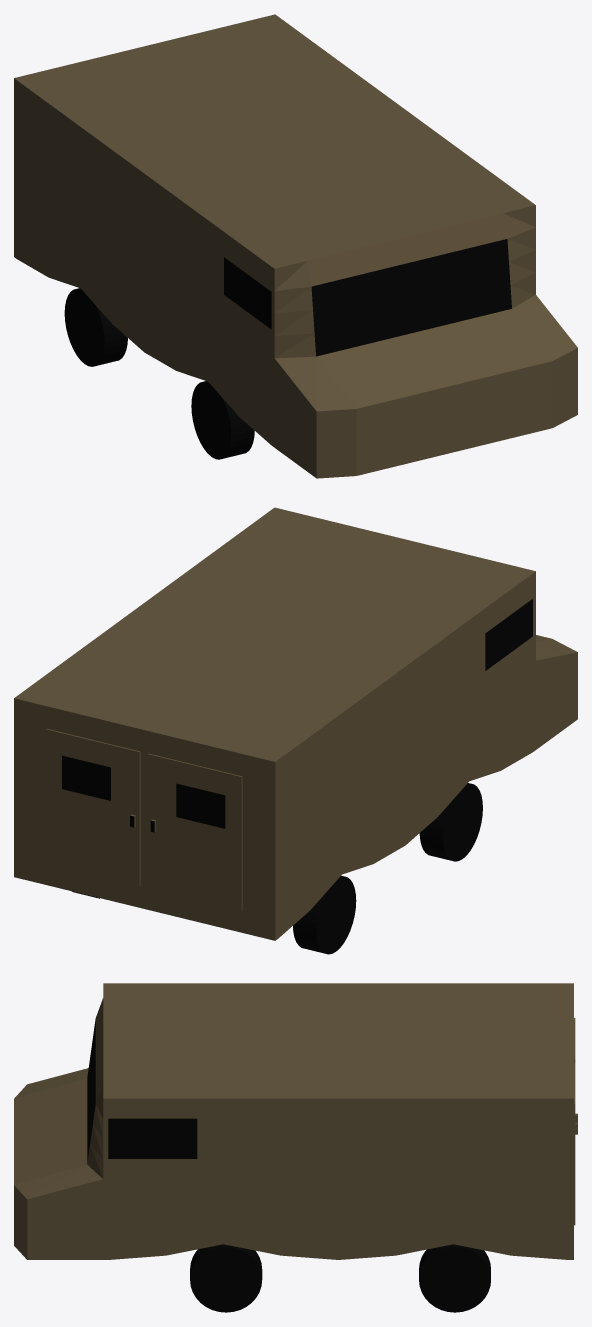
The model's file is Truck.obj.
3 views of the same model, one above another, from view 1: azimuth 30°, elevation 25°; view 2: azimuth 150°, elevation 25°; view 3: azimuth 270°, elevation 25° (orthographic). The views are drawn at different scales.
Parts seen in each view (by area): view 1: Cube, Cylinder.003, Cylinder.001; view 2: Cube, Cylinder.001, Cylinder.003; view 3: Cube, Cylinder, Cylinder.002.
Part boxes in pixels (left/top/right/bottom): Cube: left=14, top=14, right=577, bottom=478; Cylinder.003: left=191, top=381, right=254, bottom=459; Cylinder.001: left=64, top=288, right=127, bottom=366; Cube: left=14, top=507, right=577, bottom=940; Cylinder.001: left=293, top=875, right=356, bottom=954; Cylinder.003: left=419, top=783, right=482, bottom=861; Cube: left=14, top=983, right=577, bottom=1259; Cylinder: left=190, top=1244, right=262, bottom=1312; Cylinder.002: left=419, top=1244, right=490, bottom=1312.
Size of the model in its own units: 7.55 by 6.6 by 15.62.
